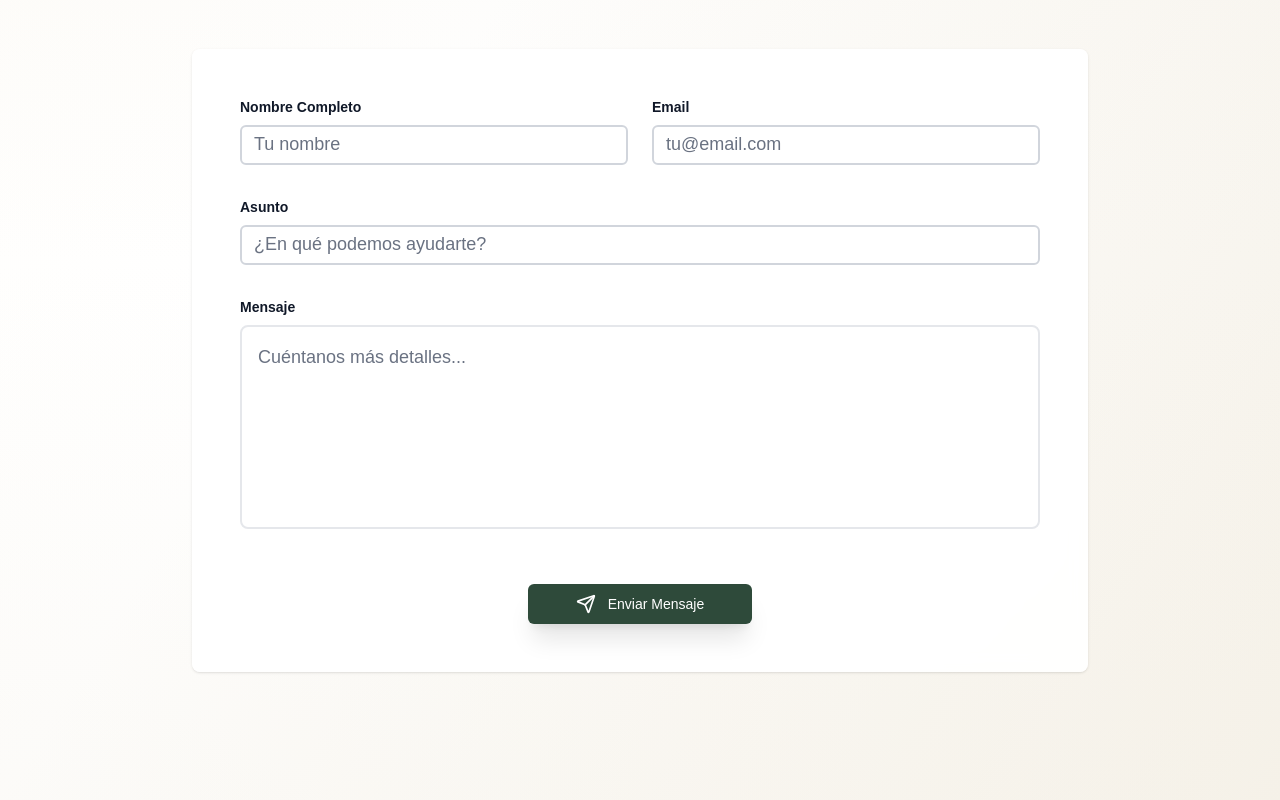
Test: ContactPage › Formulario de contacto › muestra errores de validación al enviar sin llenar campos
(page scrolled)
Click the button "Enviar Mensaje". click: coordinates (640, 604)
box: x1=528 y1=584 x2=752 y2=624
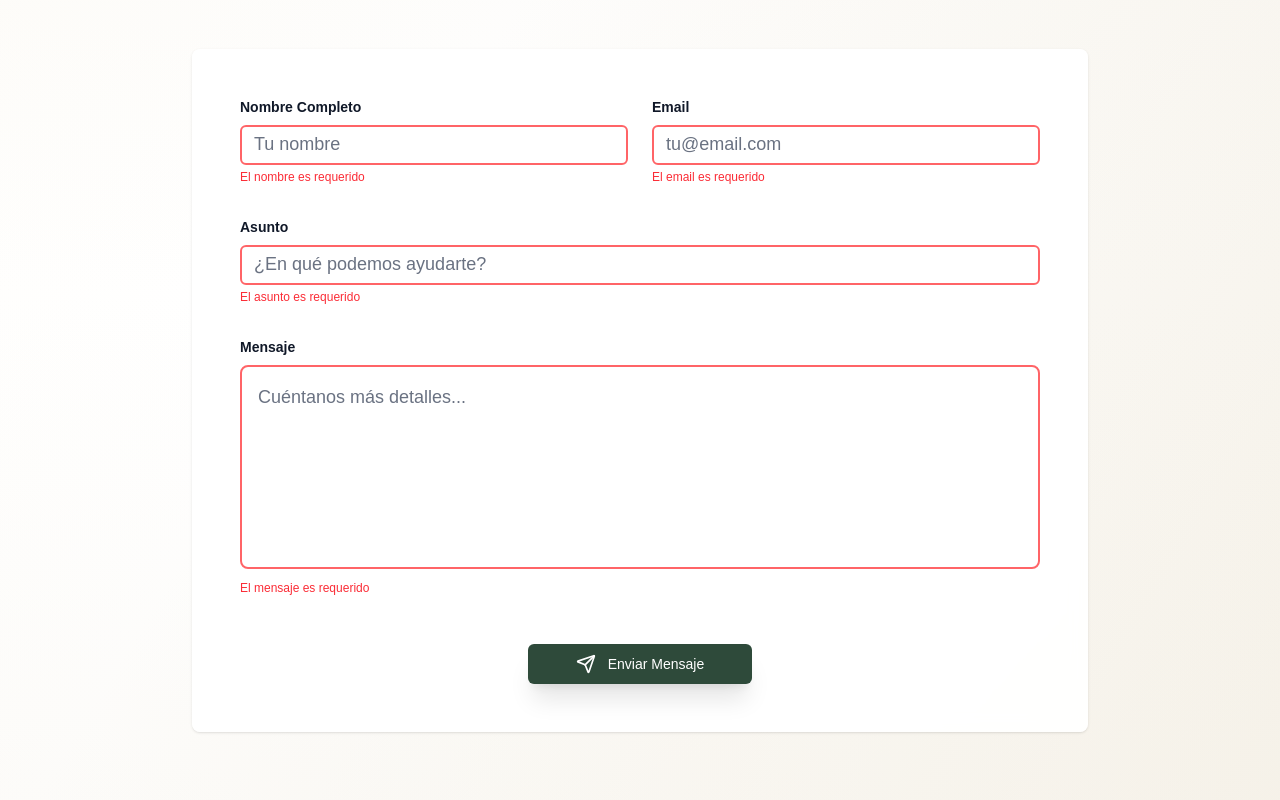
Now the text "El nombre es requerido" is shown, box x1=240 y1=170 x2=365 y2=184
Now the text "El email es requerido" is shown, box x1=652 y1=170 x2=765 y2=184
Now the text "El asunto es requerido" is shown, box x1=240 y1=290 x2=360 y2=304
